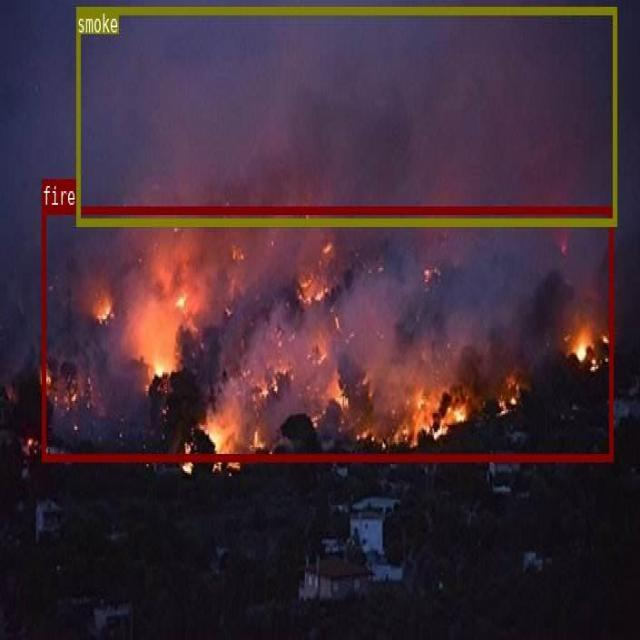fire: (41, 206, 612, 460)
smoke: (76, 6, 616, 224)
